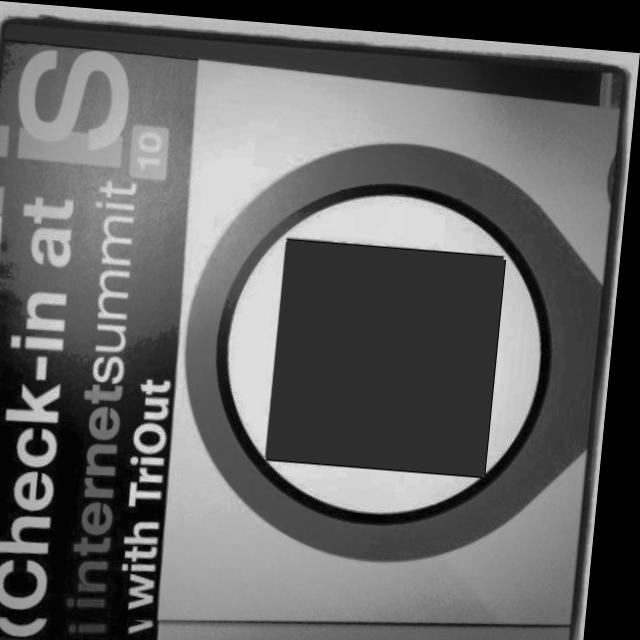qr_code: (273, 234, 510, 467)
